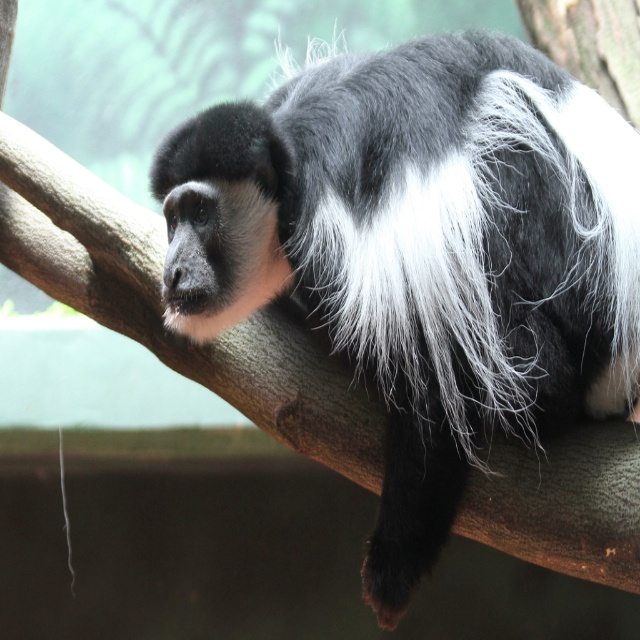Monkey: (124, 49, 610, 609)
